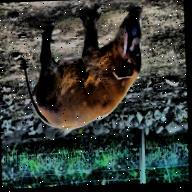boar: (15, 2, 177, 145)
